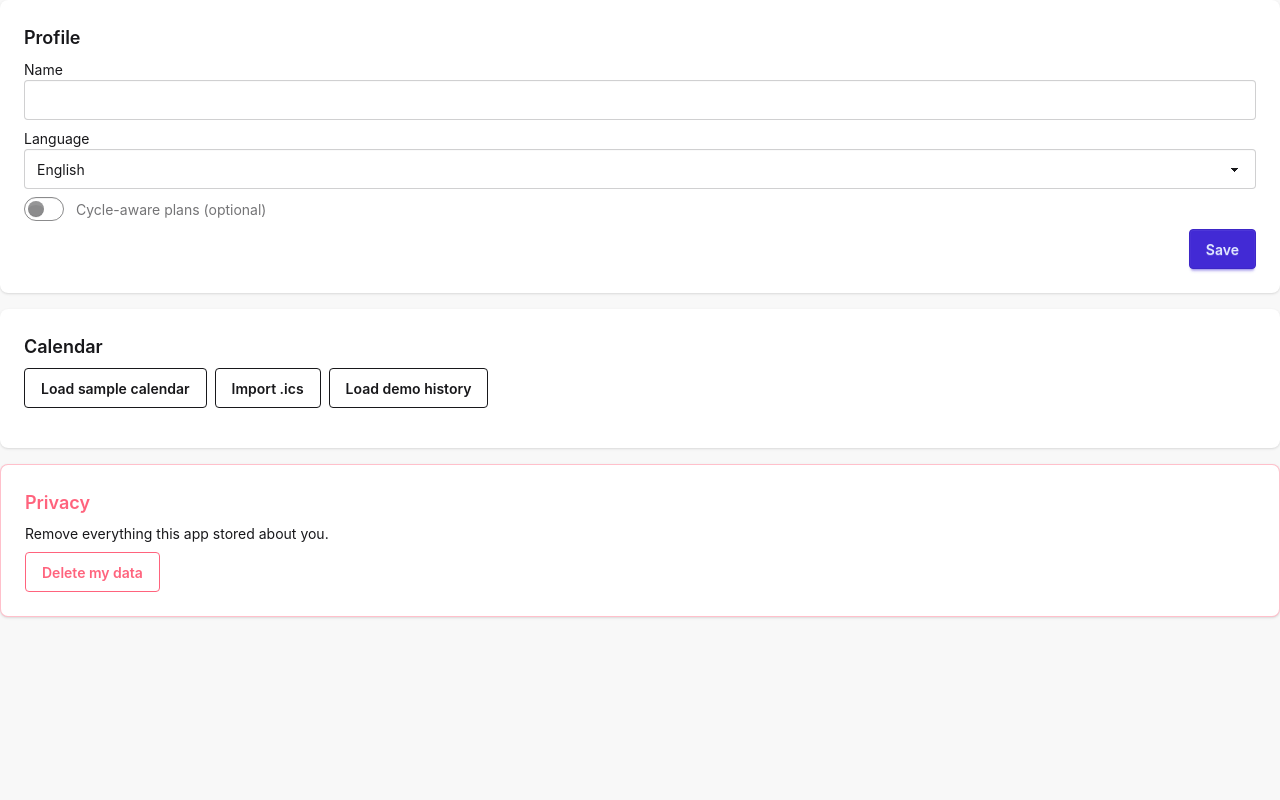
Test: Profile › échec de suppression : message d'erreur
The image size is (1280, 800).
Expected: the heading "Profile" is shown, [24,27,80,48]
What coordinates should you click on to do the following:
click the button "Delete my data"
I would click on:
 (92, 572)
Its box is [25,552,160,592].
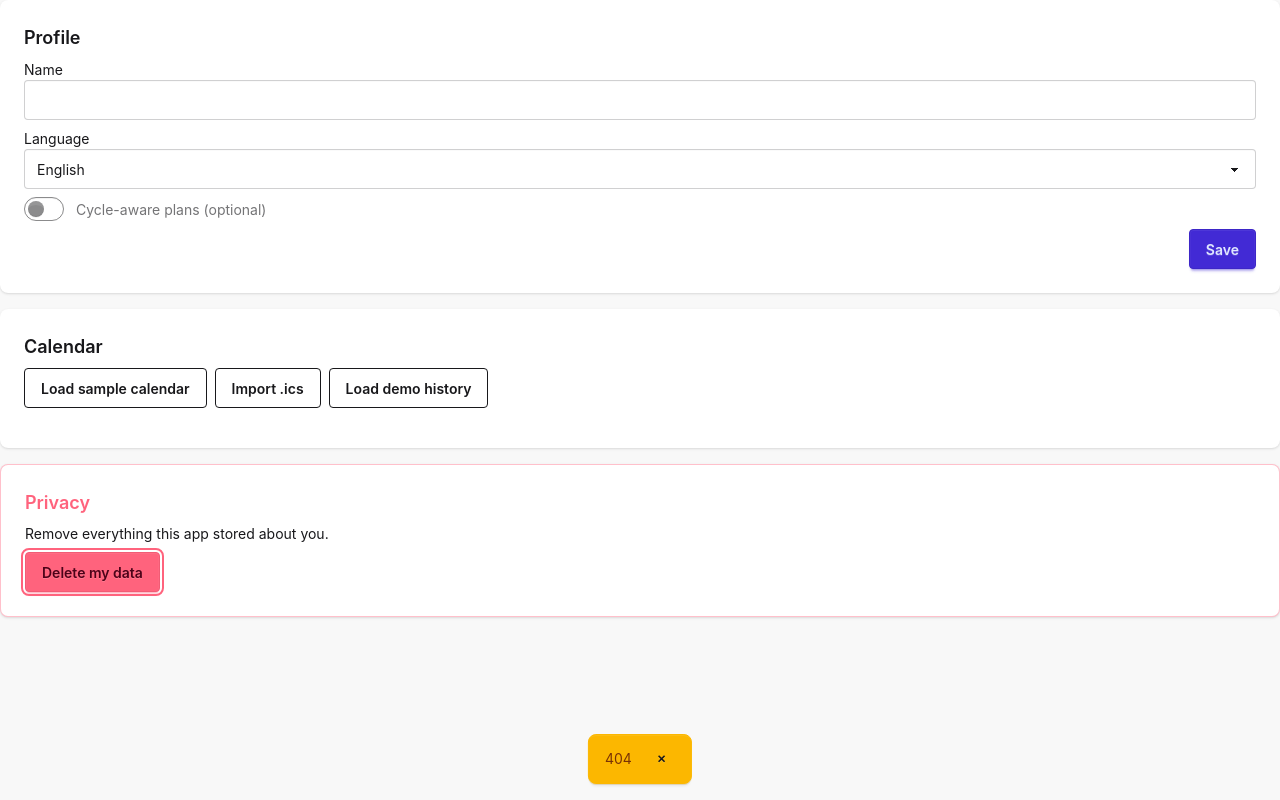
Now the text "404" is shown, box [605,749,632,769]
